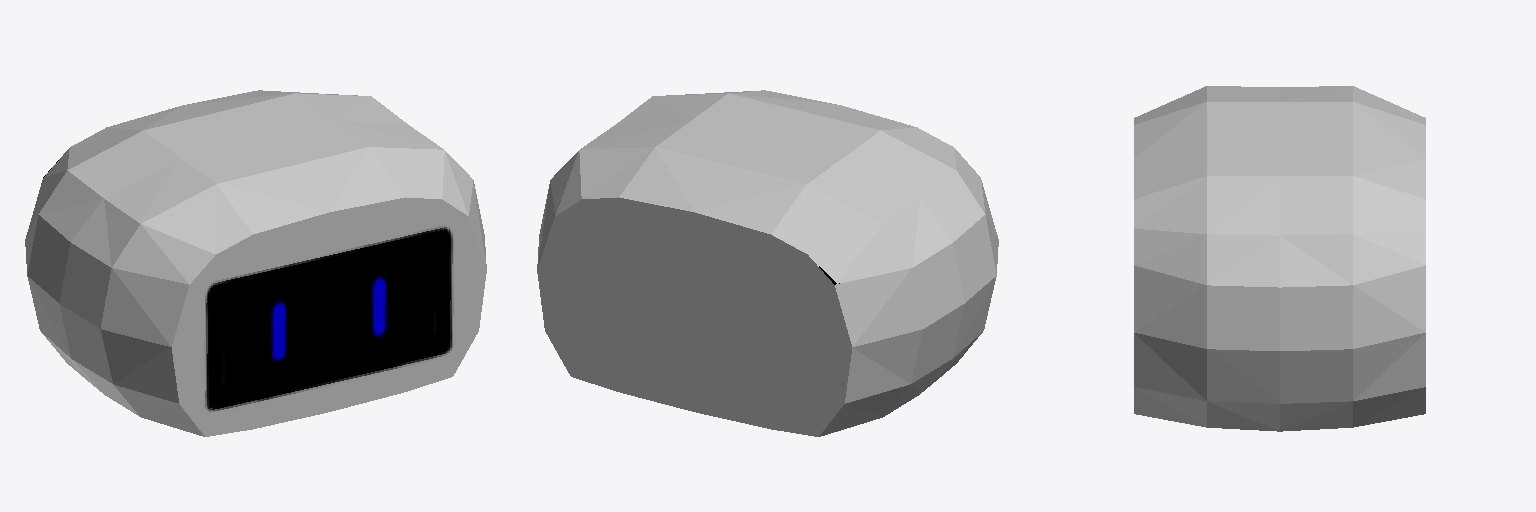
3 renders of one model, left to right at view 1: azimuth 30°, elevation 25°; view 2: azimuth 150°, elevation 25°; view 3: azimuth 270°, elevation 25°, orthographic.
Visible parts, largest first — view 1: 立方体; view 2: 立方体; view 3: 立方体.
Boxes of the visible parts, x1,y1,x2,y2 form: 立方体: [25, 90, 486, 436]; 立方体: [537, 90, 998, 436]; 立方体: [1134, 86, 1425, 431].
Bounding box in the file's own units: 1.19 × 0.6761 × 0.765.
1 materials, 1 textured.